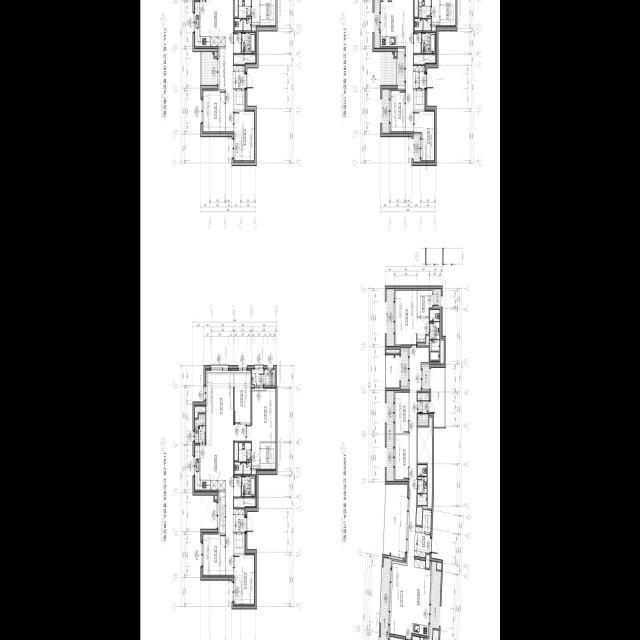background: (140, 0, 500, 640)
space_balconi: (383, 485, 407, 558), (429, 561, 441, 640), (380, 558, 390, 640), (431, 368, 444, 427), (386, 391, 393, 481), (381, 52, 396, 85), (201, 52, 216, 85), (386, 355, 399, 388), (386, 289, 393, 346), (417, 393, 428, 425), (382, 89, 389, 133), (195, 414, 205, 443), (397, 52, 404, 86), (401, 351, 407, 386), (413, 136, 420, 162), (252, 369, 263, 384), (422, 366, 429, 389), (434, 289, 441, 306)
space_bedroom: (246, 389, 275, 469), (395, 291, 428, 345), (414, 111, 434, 162), (234, 112, 254, 162), (234, 555, 254, 605), (202, 534, 225, 577), (202, 91, 225, 133), (234, 371, 250, 423), (394, 435, 408, 480), (390, 91, 405, 133), (394, 393, 408, 433)
space_dressroom: (440, 0, 455, 27), (260, 0, 275, 27), (260, 443, 275, 469), (417, 291, 432, 316)
space_front: (414, 526, 430, 558), (233, 509, 245, 533), (413, 66, 425, 89), (233, 66, 244, 89)
space_kitchen: (411, 559, 431, 636), (195, 2, 225, 47), (195, 445, 225, 490), (380, 2, 405, 46)
space_living_room: (389, 348, 428, 638), (206, 371, 245, 577), (206, 0, 233, 133), (391, 0, 413, 133)
space_other: (417, 418, 432, 509), (218, 48, 225, 89), (218, 492, 225, 533), (414, 90, 425, 110), (422, 509, 431, 533), (234, 498, 255, 508), (234, 534, 245, 553), (234, 90, 244, 110), (413, 55, 435, 64), (234, 55, 255, 64), (233, 476, 240, 497), (413, 33, 420, 53), (417, 336, 429, 346), (234, 33, 240, 53), (416, 507, 422, 526), (195, 407, 205, 418), (414, 0, 418, 17), (440, 341, 443, 363), (425, 555, 429, 568), (433, 630, 438, 640), (386, 350, 399, 353), (437, 562, 441, 570), (431, 27, 436, 31), (251, 27, 256, 31), (251, 471, 256, 474), (215, 496, 217, 500), (395, 52, 396, 56), (215, 52, 216, 56)
space_outdoor_room: (264, 369, 275, 386)
space_toilet: (234, 443, 251, 474), (429, 310, 439, 361), (234, 0, 251, 30), (414, 0, 430, 31), (417, 465, 426, 505), (421, 33, 435, 53), (241, 33, 255, 53), (241, 476, 255, 496)
